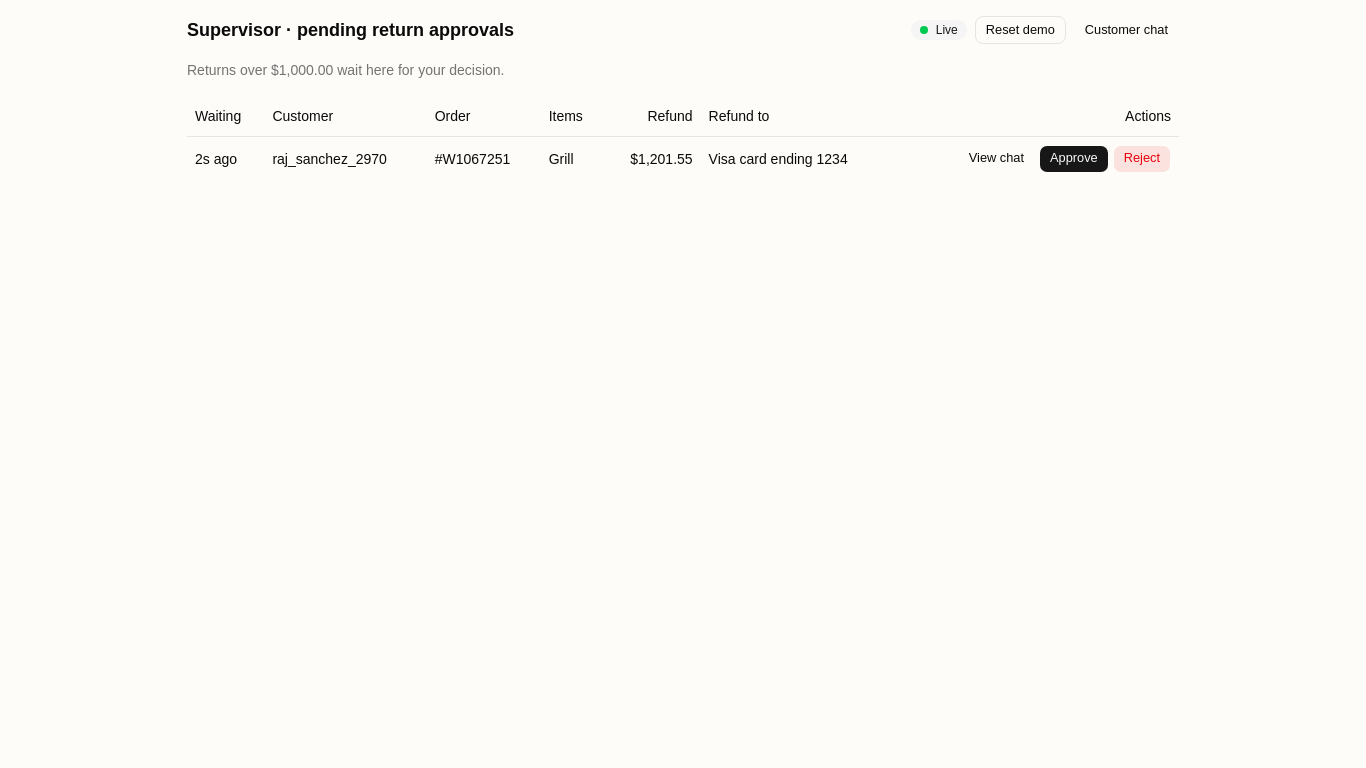
Test: SupervisorPage › shows the conversation read-only
Click the button "View chat". click: (996,158)
box: [958,144,1035,172]
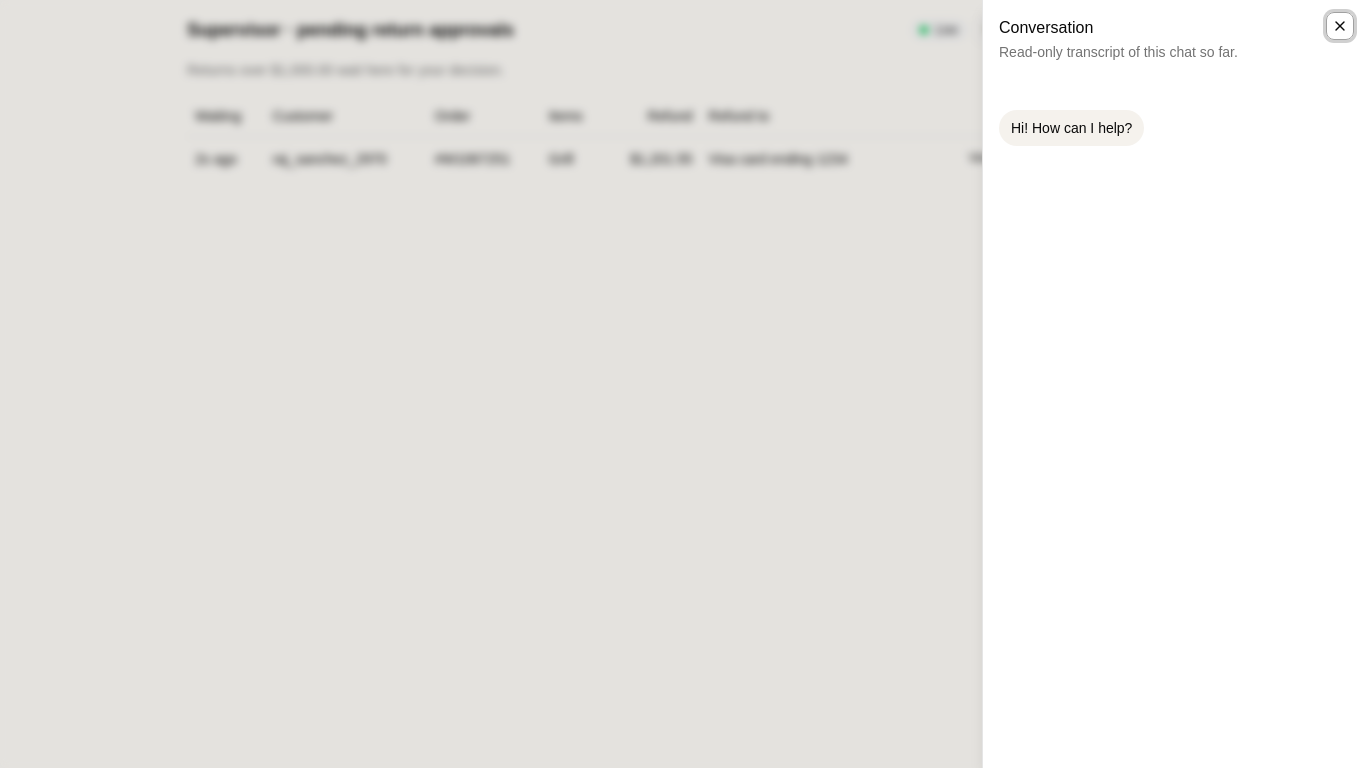
Expected: the text "Hi! How can I help?" is shown, [999,110,1144,146]
